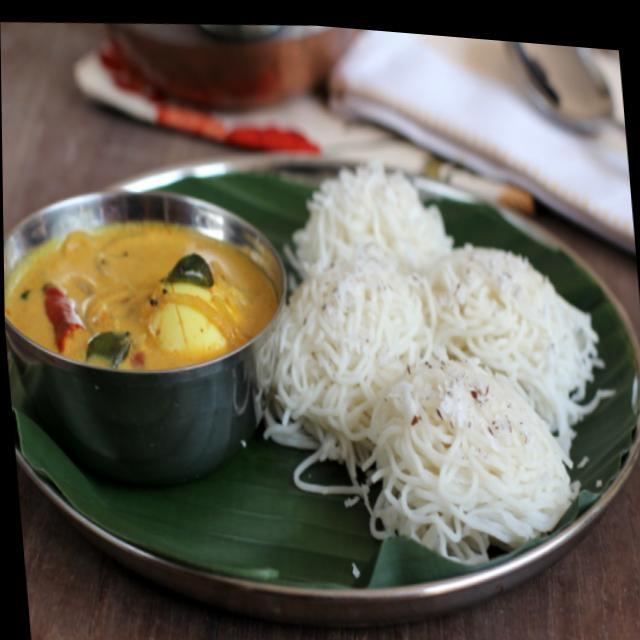EGG: (8, 226, 272, 360)
IDIYAPPAM: (257, 165, 598, 556)
